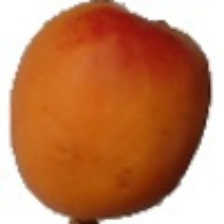apricot: (60, 35, 207, 177)
